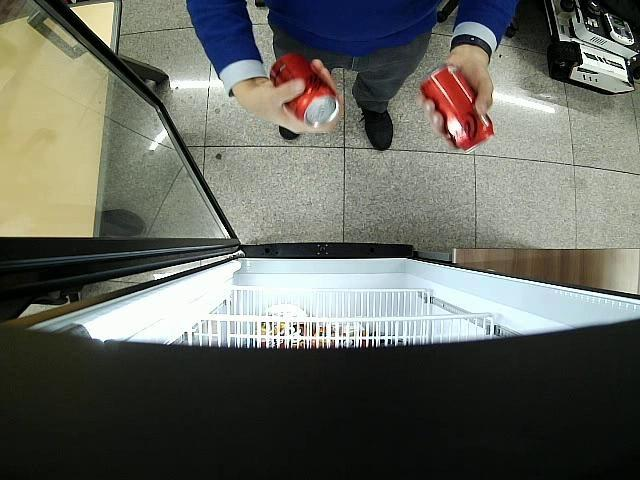11_cocaColaZero: (420, 65, 496, 154), (270, 55, 338, 127)
